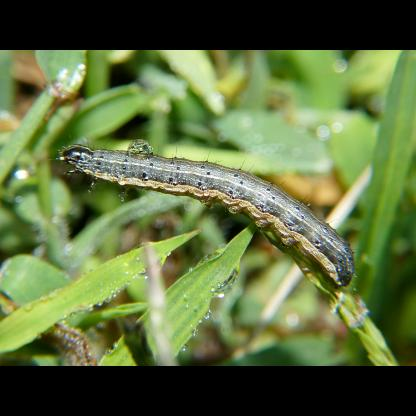Fall Armyworm Larvae: (46, 132, 366, 300)
